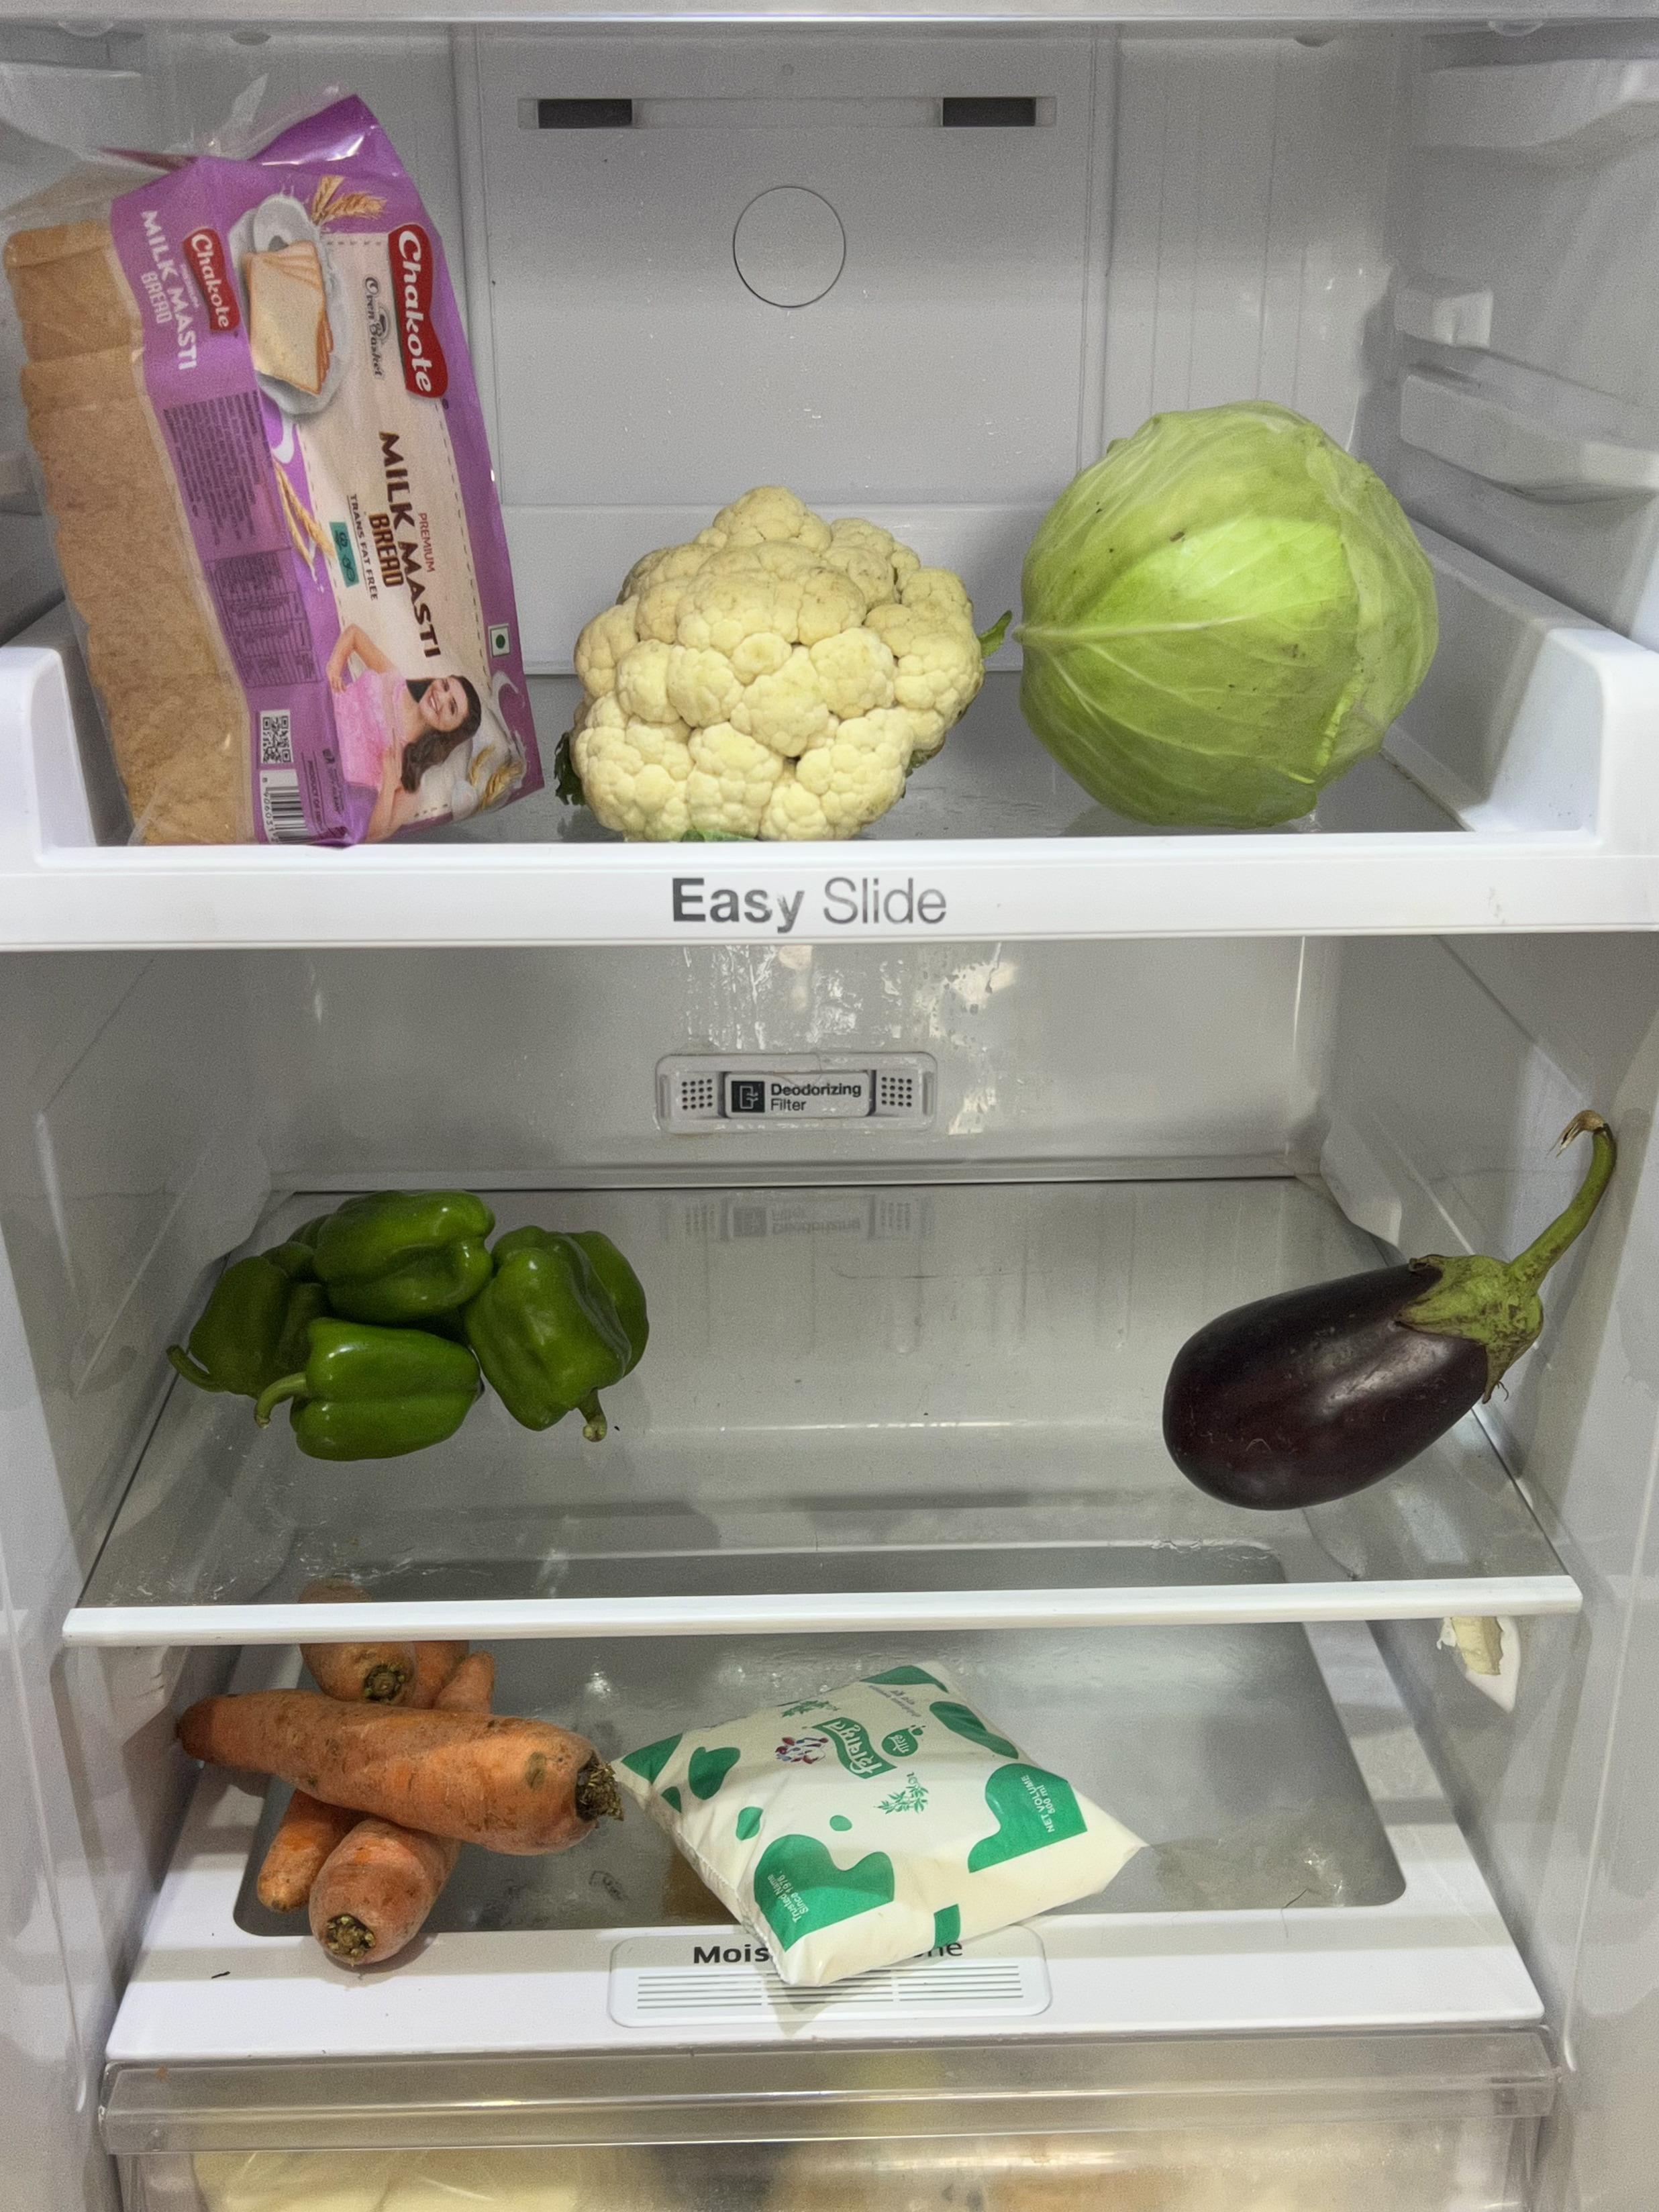bread: (16, 106, 535, 840)
bringal: (1154, 1235, 1535, 1515)
cabbage: (1023, 401, 1438, 820)
capsicum: (183, 1176, 653, 1465)
carrots: (173, 1637, 617, 1972)
cauliflower: (568, 486, 983, 840)
milk: (617, 1660, 1140, 1986)
